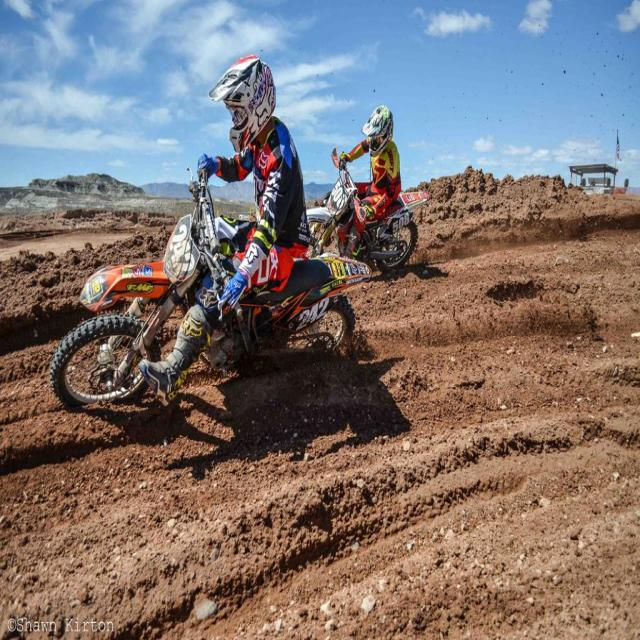Motorbikes: (49, 72, 369, 416), (300, 104, 430, 276)
